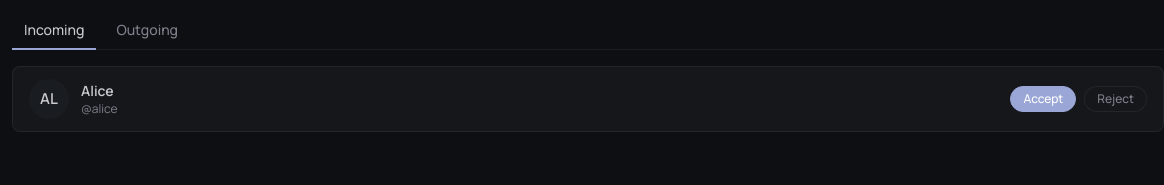
it: RequestsInbox › removes a row optimistically on Reject
Expected: the text "Alice" is shown, [81,81,118,101]
Click the button "Reject".
click(1116, 99)  # box [1084,86,1147,112]
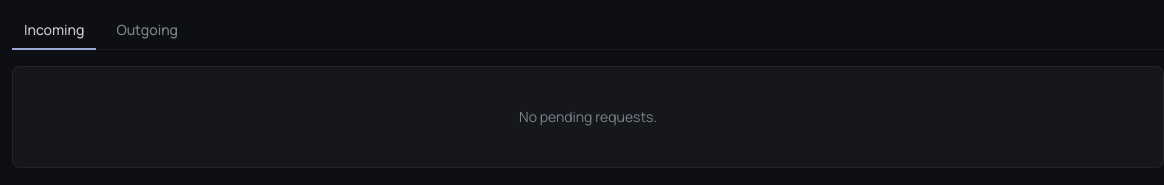
Result: the link "Alice" is gone
